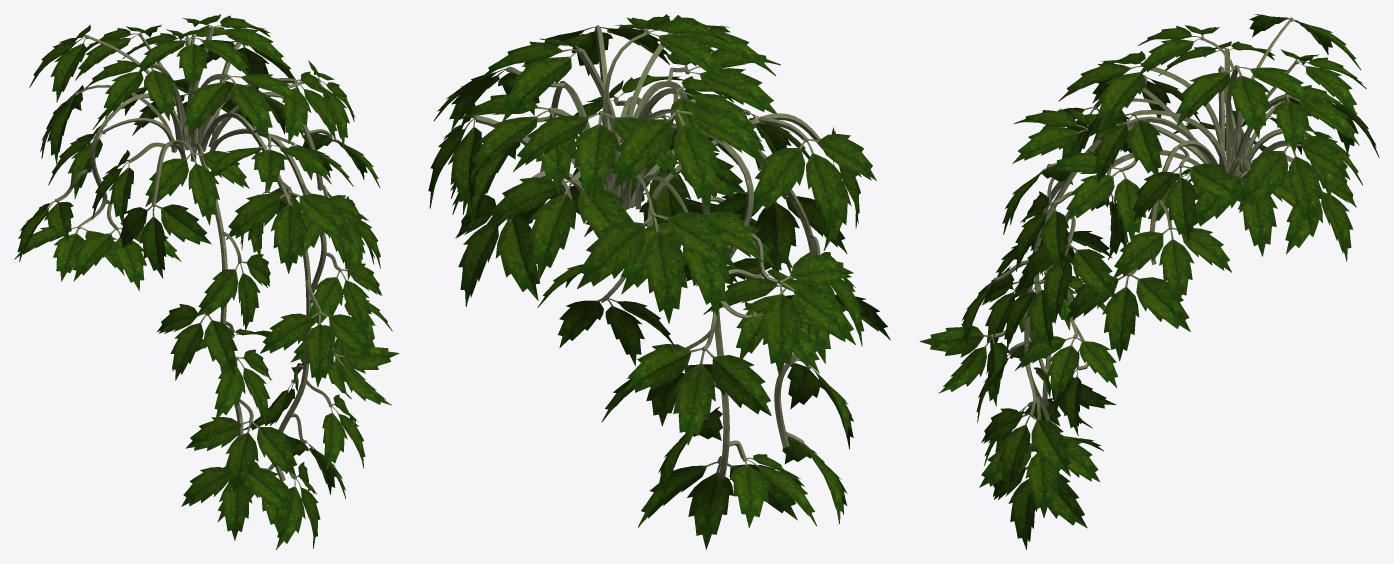
Rendered from Plant_E.fbx.
The picture shows the model from 3 angles, left to right: view 1: azimuth 30°, elevation 25°; view 2: azimuth 150°, elevation 25°; view 3: azimuth 270°, elevation 25°; orthographic projection. The views are drawn at different scales.
Parts seen in each view (by area): view 1: Plant_EEE1, Plant_EEE2; view 2: Plant_EEE1, Plant_EEE2; view 3: Plant_EEE1, Plant_EEE2.
Part boxes in pixels (<box>): Plant_EEE1: <box>14,14,380,291</box>; Plant_EEE2: <box>157,137,399,549</box>; Plant_EEE1: <box>428,14,876,376</box>; Plant_EEE2: <box>498,149,890,549</box>; Plant_EEE1: <box>1002,14,1379,323</box>; Plant_EEE2: <box>919,124,1208,549</box>.
Size of the model in its own units: 0.2949 by 0.3997 by 0.3376.
